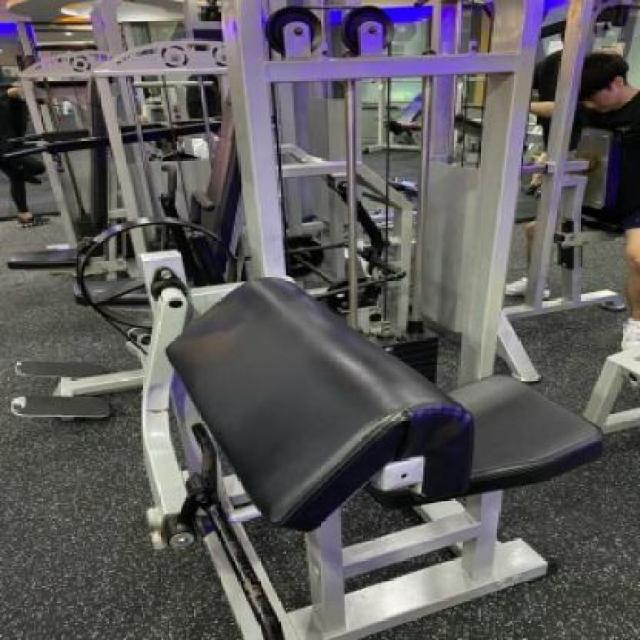arm curl machine: (83, 221, 607, 640)
